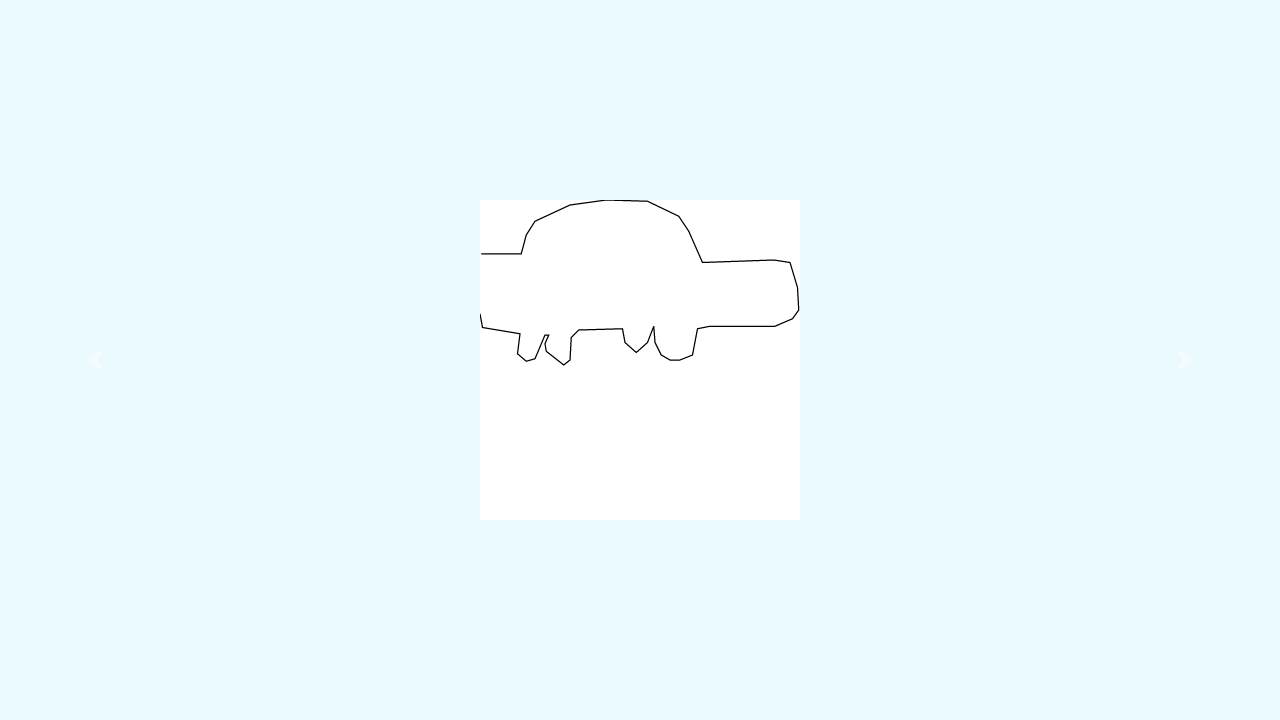car: (474, 196, 805, 371)
